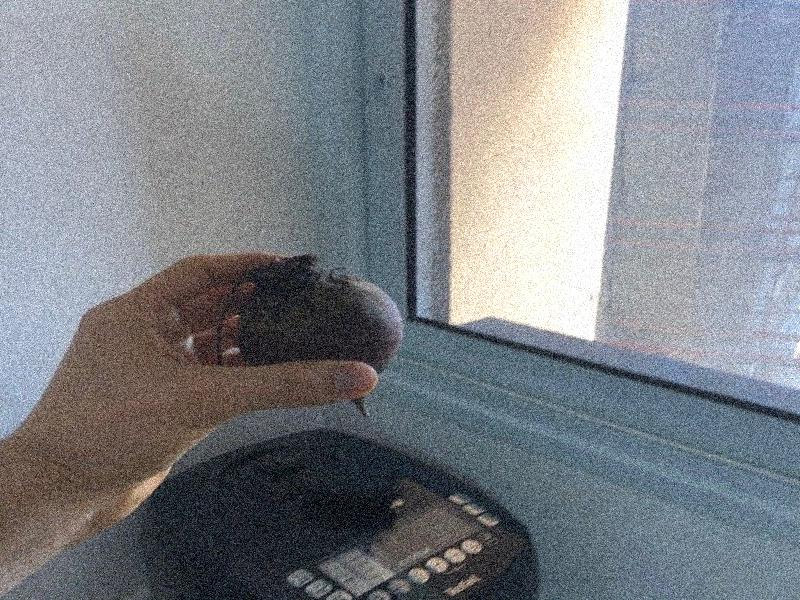Beet: (219, 254, 402, 416)
